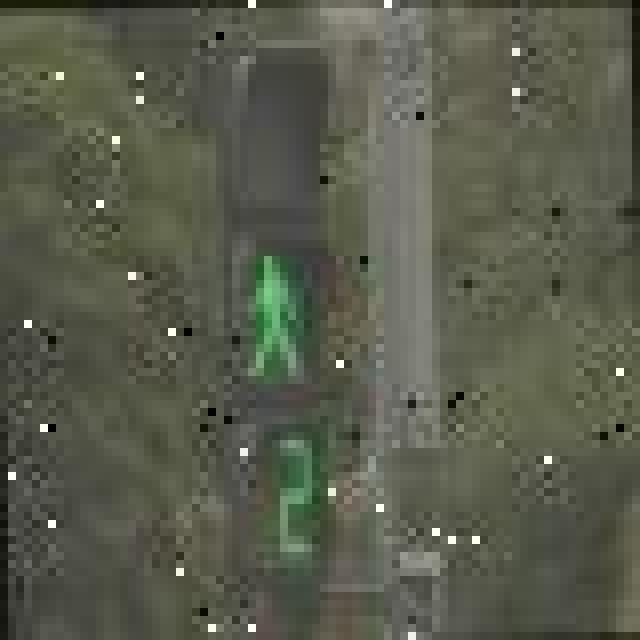greenlight: (216, 32, 344, 400)
